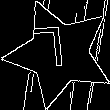L_S: (41, 27, 77, 80)
